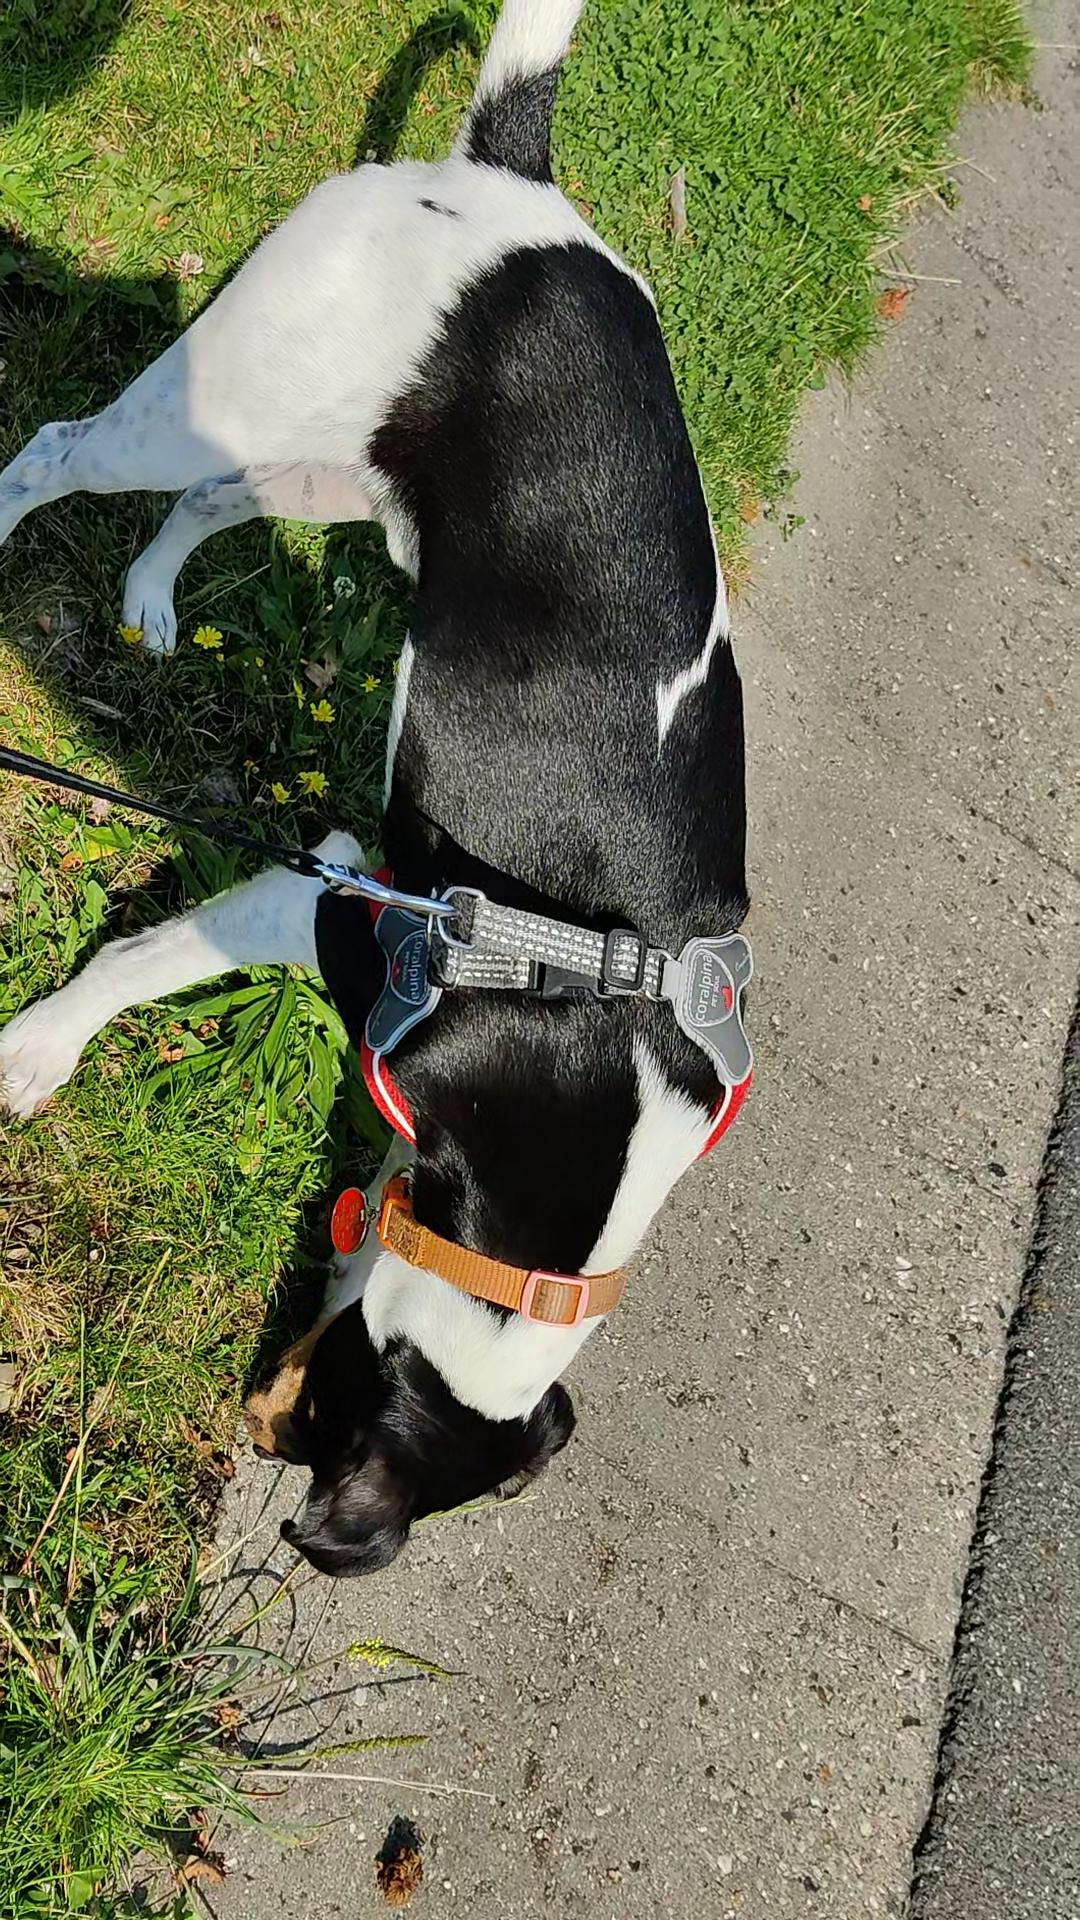Dog: (0, 0, 758, 1578)
